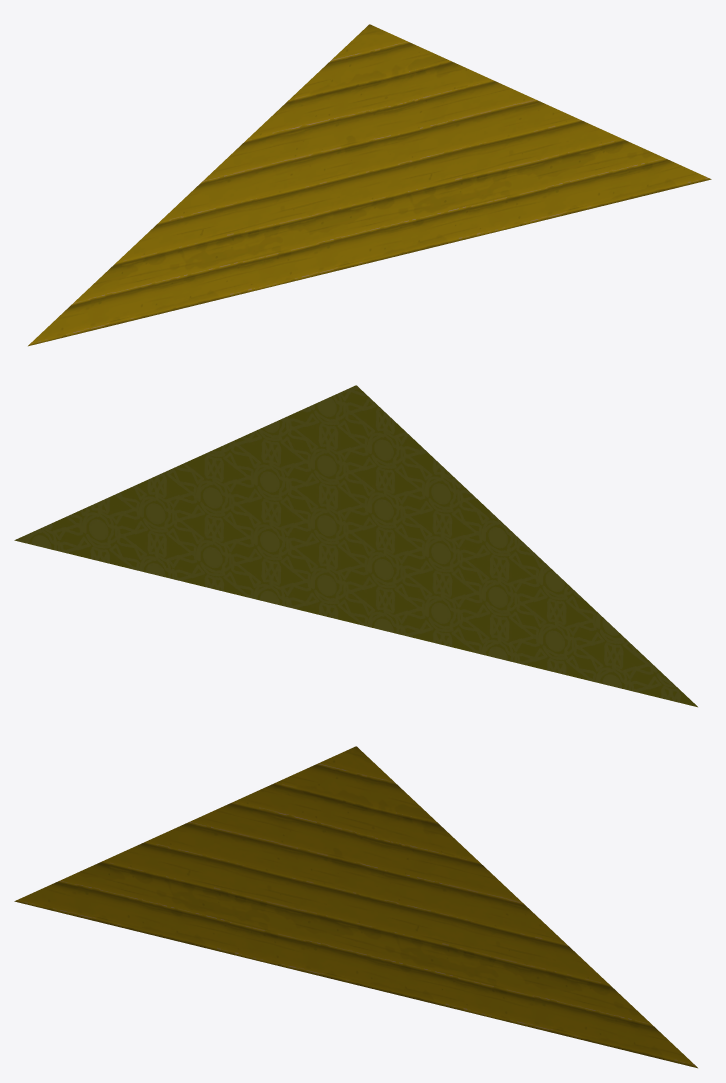
Rendered from SM_building_wall_29.glb.
The picture shows the model from 3 angles, top to bottom: view 1: azimuth 30°, elevation 25°; view 2: azimuth 150°, elevation 25°; view 3: azimuth 330°, elevation 25°; orthographic projection.
Visible parts, largest first — view 1: SM_building_wall_29; view 2: SM_building_wall_29; view 3: SM_building_wall_29.
Part boxes in pixels (x1=…): SM_building_wall_29: x1=28, y1=24, x2=711, y2=346; SM_building_wall_29: x1=14, y1=385, x2=697, y2=707; SM_building_wall_29: x1=14, y1=746, x2=697, y2=1068.
Bounding box in the file's own units: 6 × 2 × 0.2.
2 materials, 2 textured.
